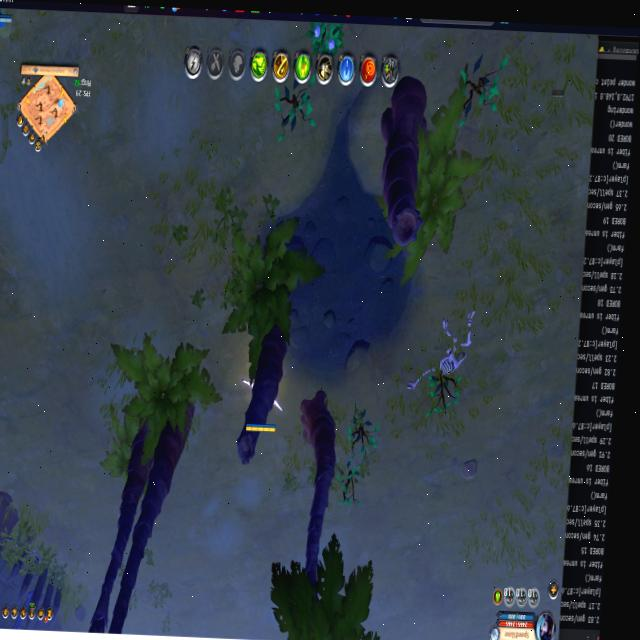hide: (307, 22, 346, 56), (0, 8, 6, 60)
red: (243, 410, 279, 438), (0, 14, 15, 29)
